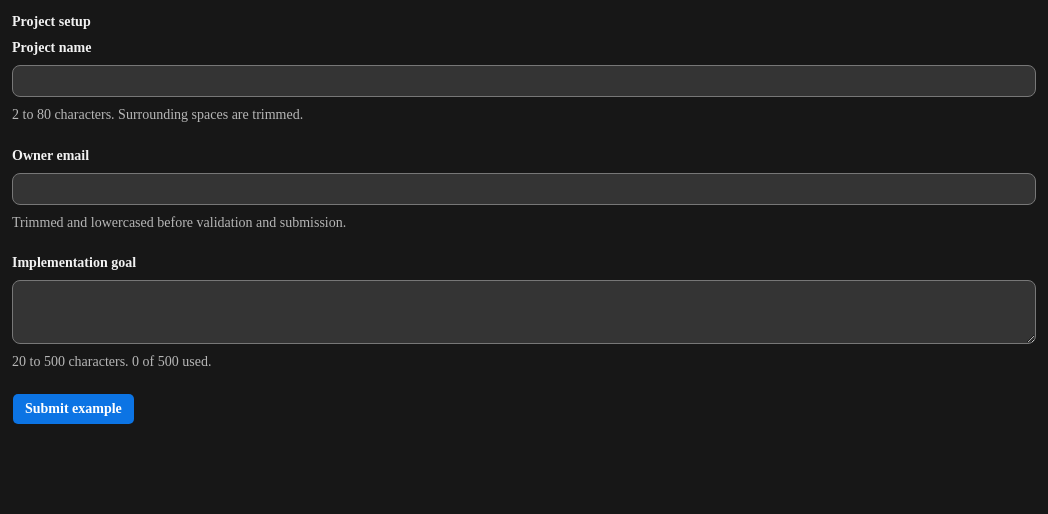
Test: ReferenceForm — accessible wiring › points aria-describedby at the description, then adds the error
The image size is (1048, 514).
Click the button at (73, 409), box [12,393,135,425]
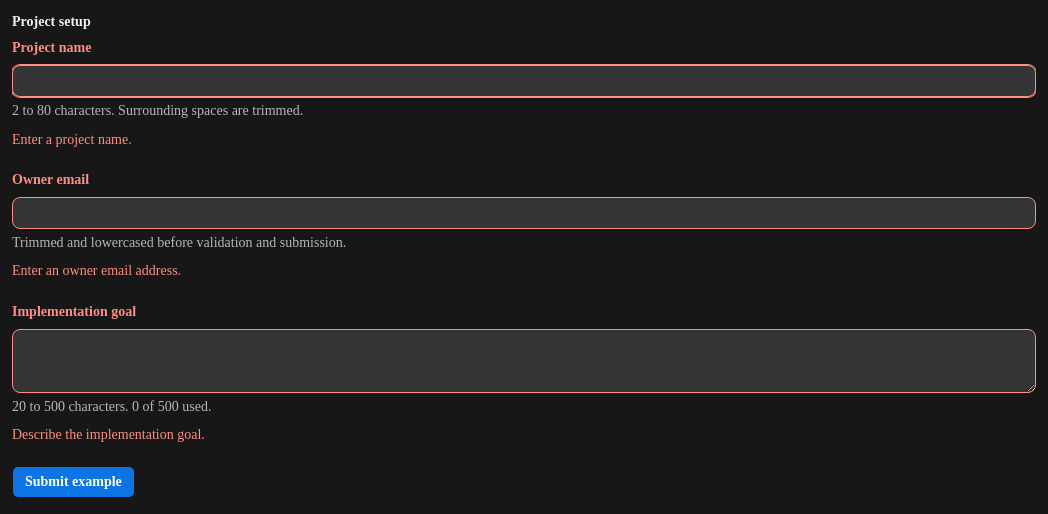
Expected: the message "Enter a project name." is shown, [12,132,132,146]
